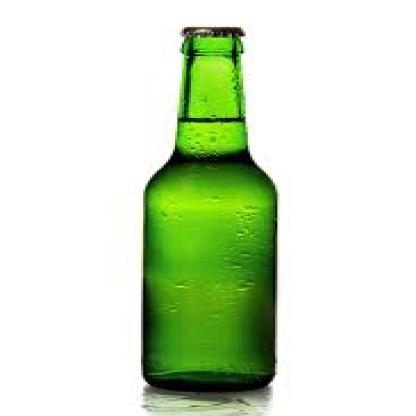trash: (143, 27, 276, 389)
